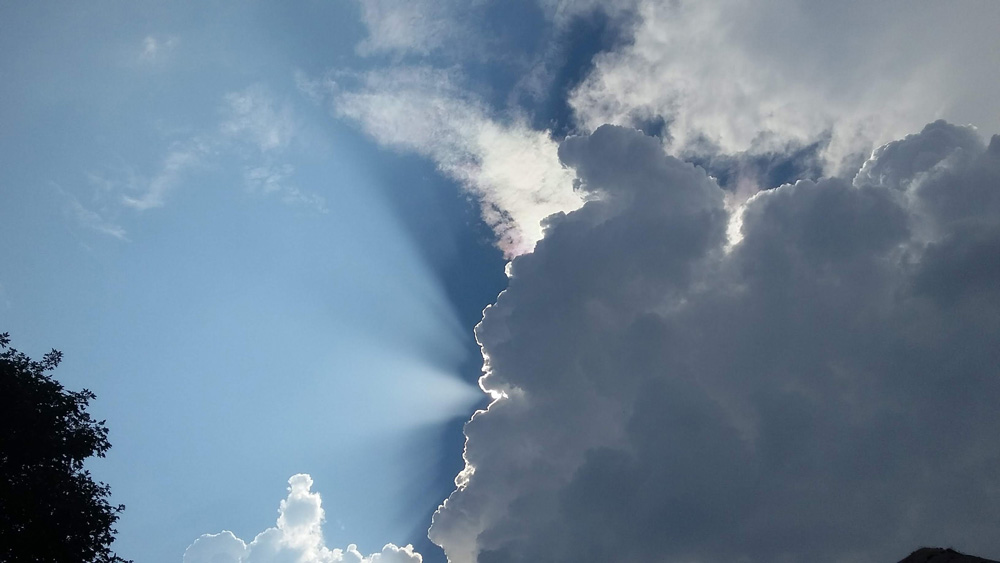Cumulus: (434, 86, 1000, 563)
